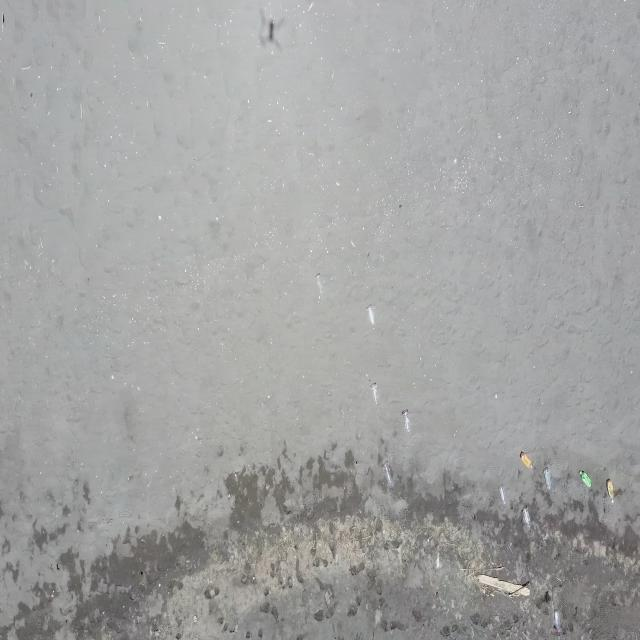plastic-bottle: (604, 478, 615, 504), (578, 469, 592, 489), (520, 450, 533, 470)
takeaway-cup: (368, 380, 379, 407), (366, 304, 376, 330), (402, 409, 412, 434), (382, 461, 392, 485), (314, 270, 324, 294), (554, 610, 563, 633), (522, 508, 531, 528), (543, 468, 551, 490), (498, 484, 506, 504)
